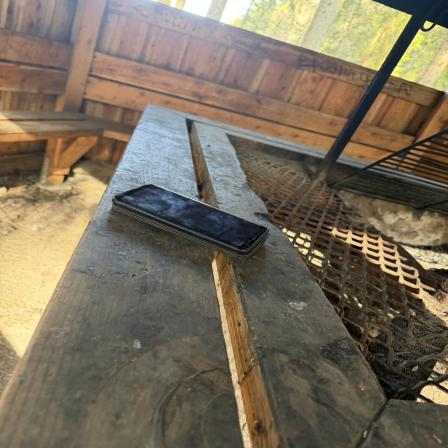phone: (114, 180, 273, 262)
